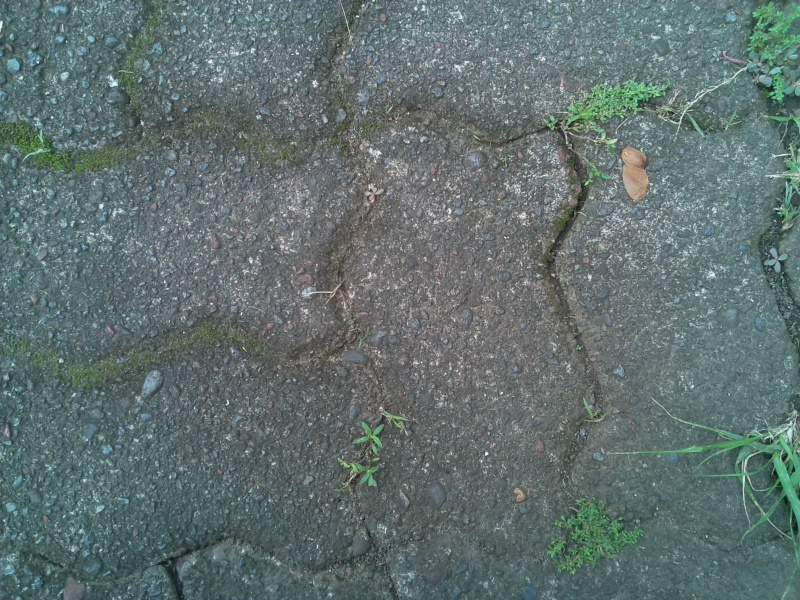Weed: (695, 409, 800, 527), (548, 496, 643, 582), (560, 78, 667, 140), (750, 3, 800, 108), (334, 453, 386, 491), (349, 419, 388, 456), (17, 127, 51, 162), (577, 397, 604, 428)
